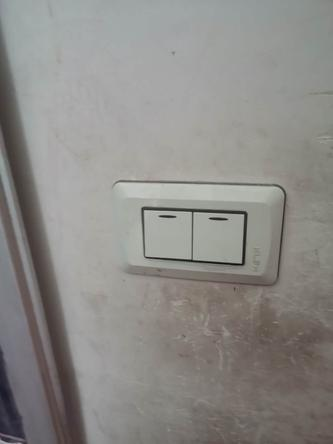switch: (140, 207, 193, 264), (192, 207, 243, 266)
